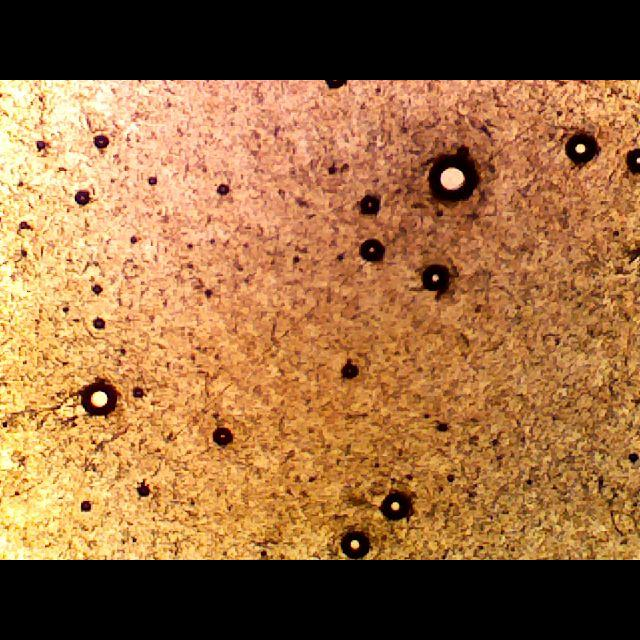microbeads: (424, 146, 482, 207), (79, 372, 123, 421), (376, 486, 416, 522), (564, 128, 600, 166), (341, 526, 372, 558), (422, 264, 451, 294), (359, 234, 387, 264), (336, 353, 364, 382), (66, 179, 94, 207), (86, 310, 108, 332), (360, 195, 380, 218), (211, 426, 233, 446), (90, 133, 112, 151), (134, 484, 156, 498), (30, 139, 51, 153), (145, 174, 161, 190), (216, 184, 232, 198), (79, 499, 93, 513), (131, 385, 147, 397)
